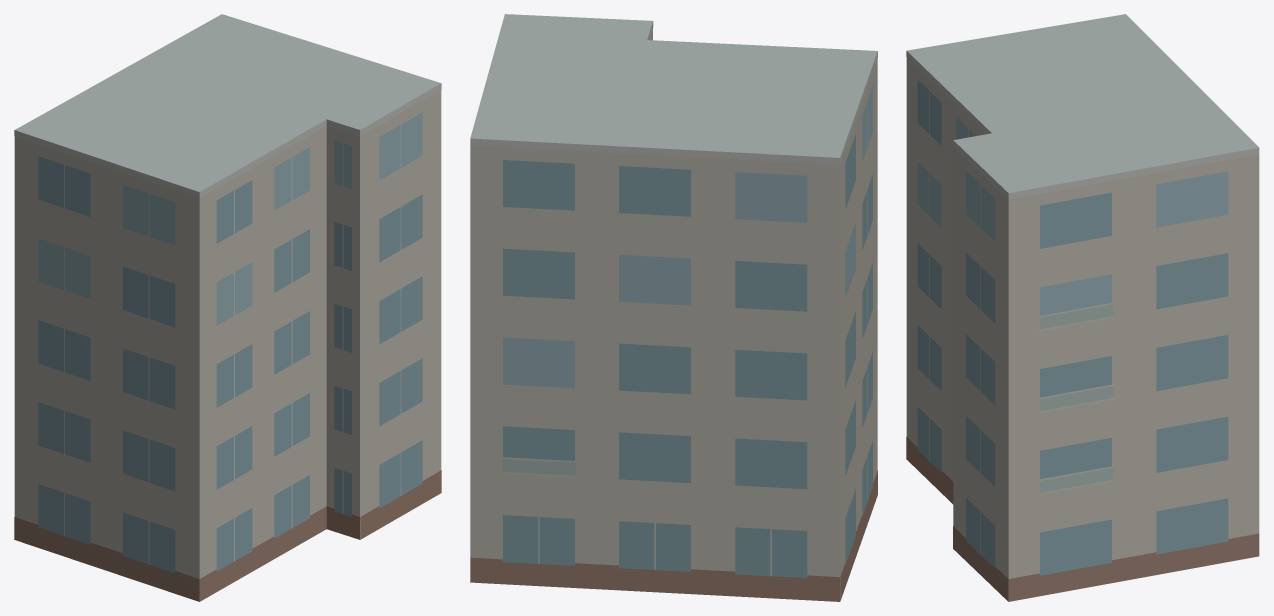
Rendered from survey-upis-32984037.glb.
The picture shows the model from 3 angles, left to right: view 1: azimuth 30°, elevation 25°; view 2: azimuth 150°, elevation 25°; view 3: azimuth 270°, elevation 25°; orthographic projection. The views are drawn at different scales.
Visible parts, largest first — view 1: survey-upis-32984037.tmp; view 2: survey-upis-32984037.tmp; view 3: survey-upis-32984037.tmp.
Boxes of the visible parts, left/top/right/bottom form: survey-upis-32984037.tmp: left=14, top=14, right=441, bottom=601; survey-upis-32984037.tmp: left=470, top=14, right=877, bottom=601; survey-upis-32984037.tmp: left=906, top=14, right=1259, bottom=601.
Size of the model in its own units: 14.82 by 15.75 by 12.33.
